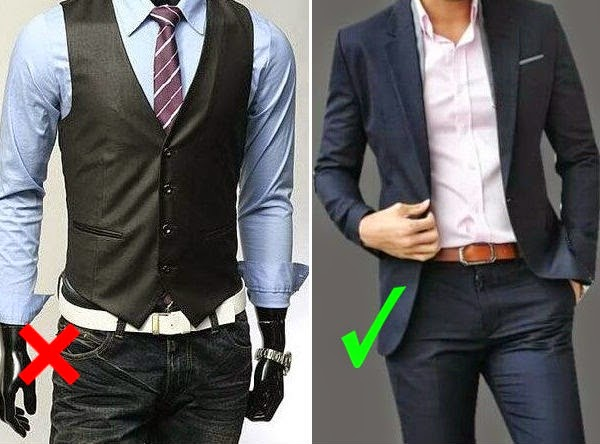C_jeans: (55, 302, 252, 444)
F_M_suit jacket: (316, 5, 600, 353)
F_belt: (424, 245, 523, 268)
F_dress pants: (387, 241, 582, 444)
F_shirt: (1, 1, 297, 326)
F_tie: (138, 4, 190, 125)
